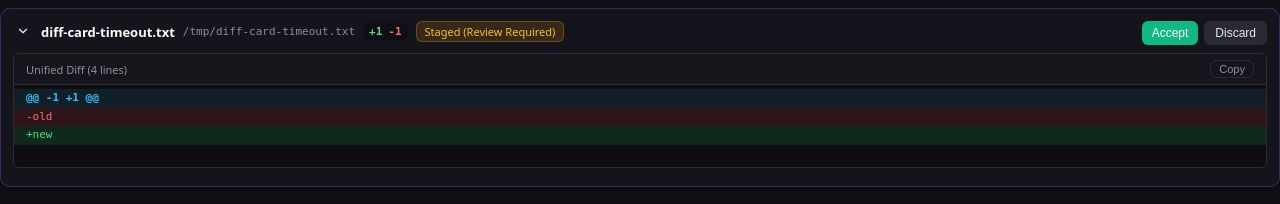
Test case: DiffCard accept timeout plus retry › flips to Accepted immediately on HTTP 200
Click the button "Accept": x=1170, y=33 1142,21 -> 1198,45
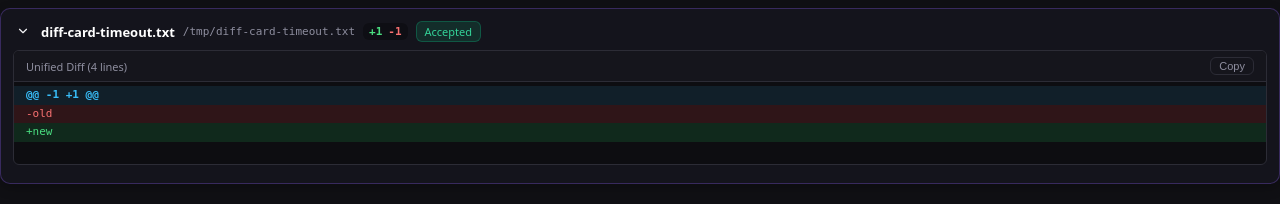
expect the text "Accepted" is shown: met, box 416,21 -> 481,42
